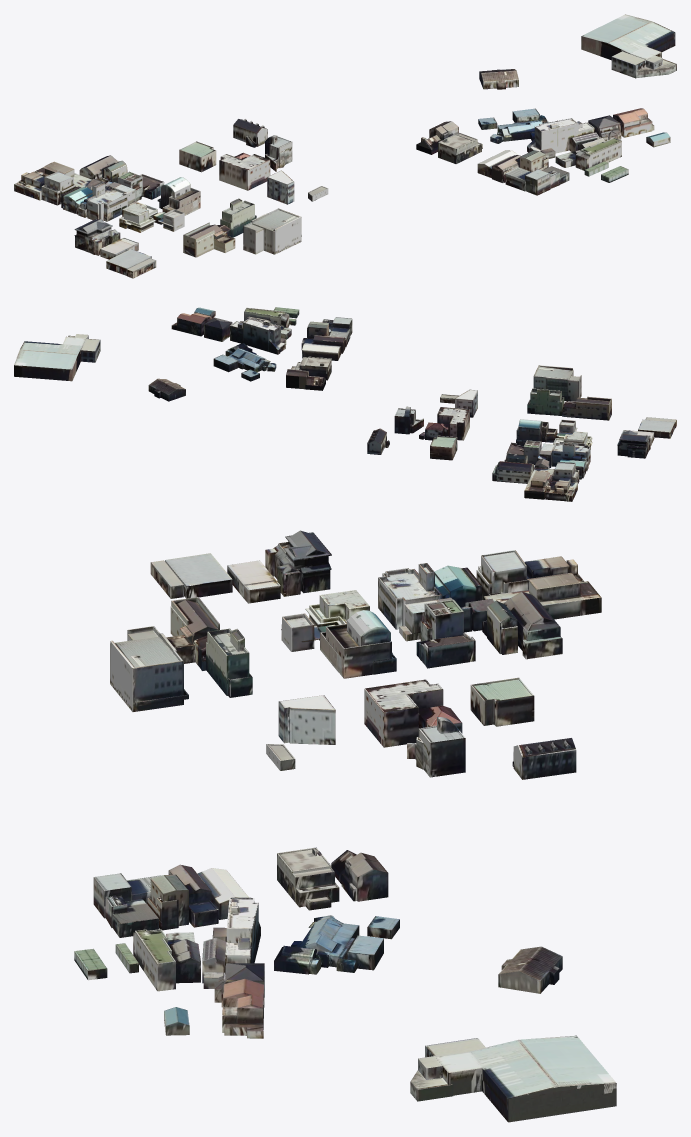
The model's file is station-1-1-packed.glb.
The picture shows the model from 3 angles, top to bottom: view 1: azimuth 30°, elevation 25°; view 2: azimuth 150°, elevation 25°; view 3: azimuth 270°, elevation 25°; orthographic projection. The views are drawn at different scales.
Size of the model in its own units: 323 by 13.59 by 132.
5 materials, 4 textured.
